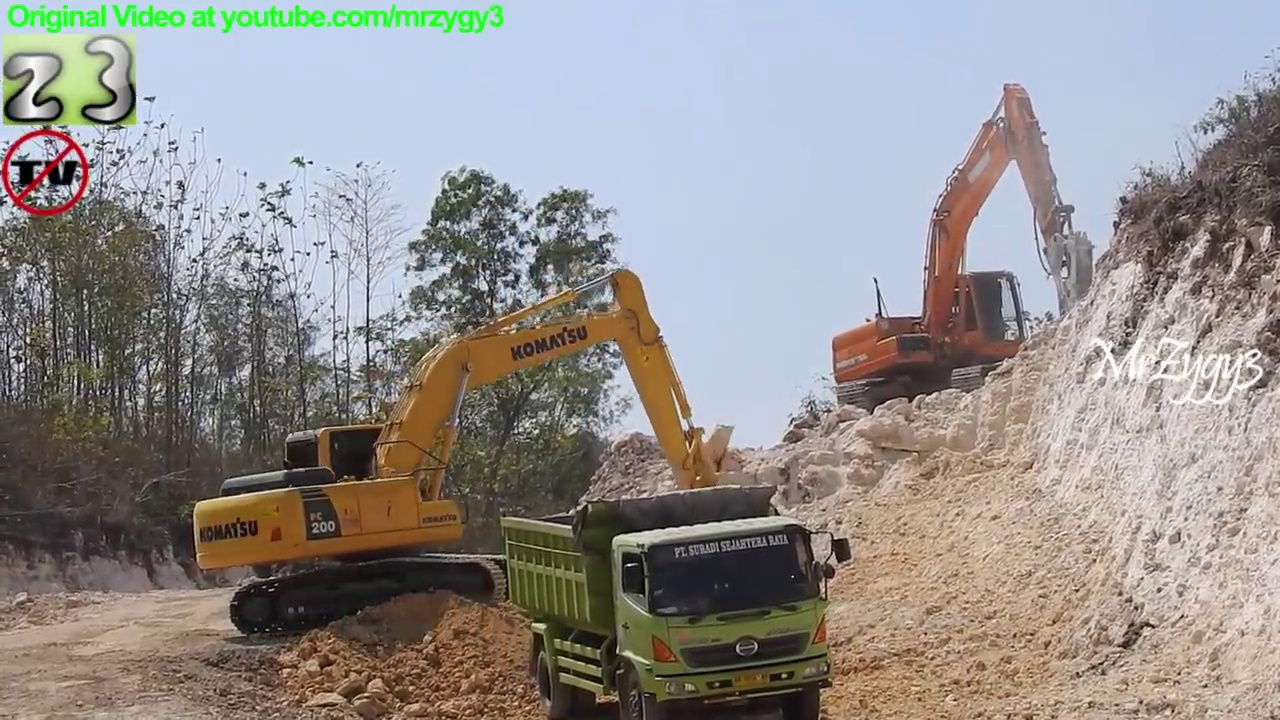excavator: (189, 264, 761, 648), (826, 78, 1102, 424)
truck: (493, 482, 861, 720)
